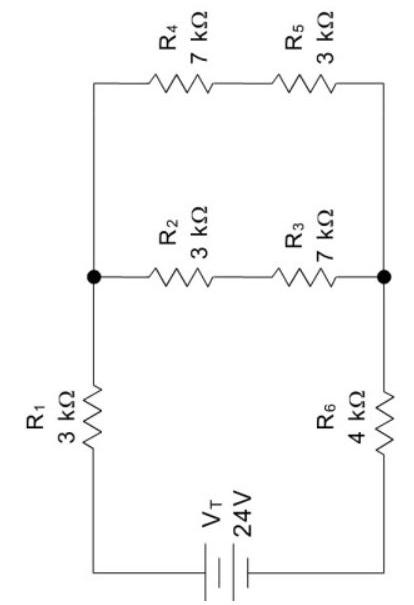Battery: (181, 535, 276, 602)
